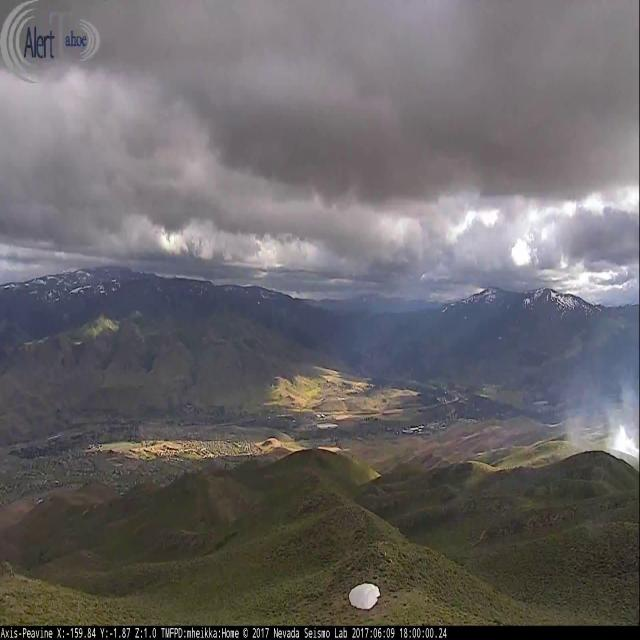smoke: (561, 339, 640, 460)
